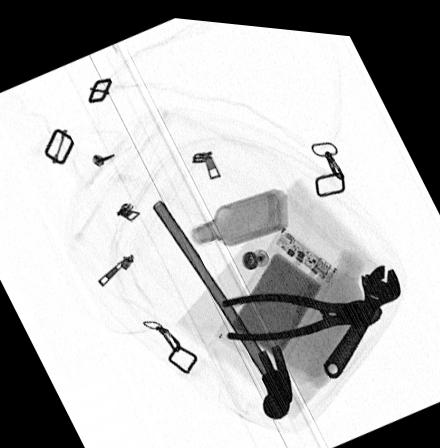Hammer: (152, 196, 293, 413)
Pliers: (221, 286, 383, 336)
Powerbank: (212, 220, 339, 367)
Wrench: (321, 254, 401, 371)
